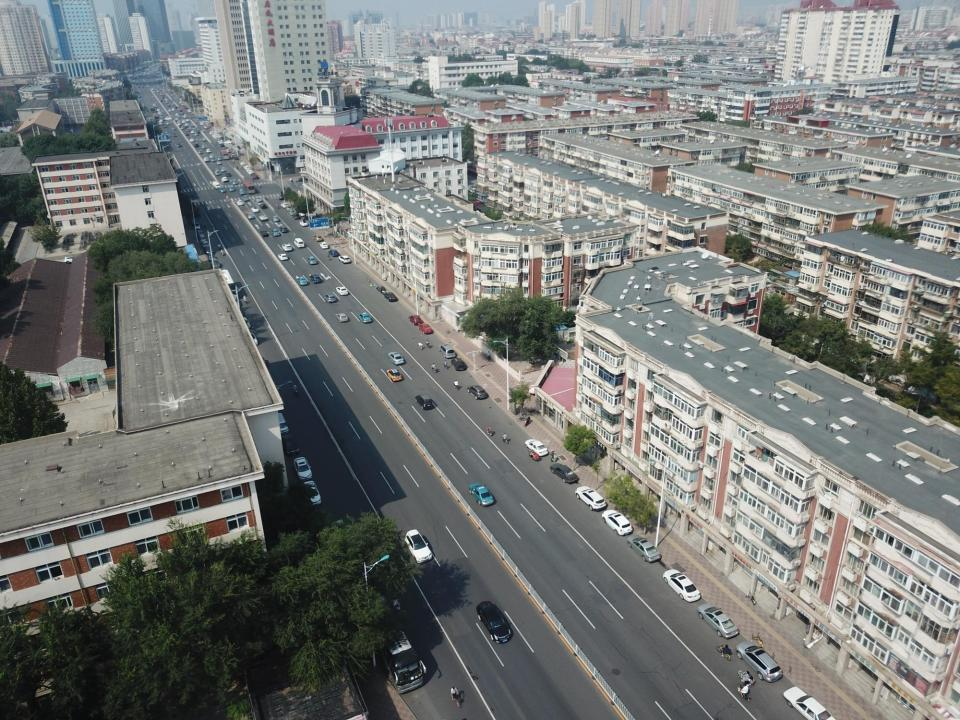bus: (367, 592, 427, 694), (241, 178, 256, 194), (220, 149, 228, 160)
car: (735, 640, 783, 682), (782, 684, 836, 720), (696, 602, 740, 640), (476, 601, 510, 644), (661, 568, 701, 603), (626, 534, 662, 564), (404, 529, 433, 563), (601, 509, 634, 536), (574, 485, 607, 511), (468, 482, 495, 507), (549, 462, 580, 483), (301, 480, 322, 507), (293, 456, 313, 481), (524, 438, 548, 457), (280, 433, 299, 456), (414, 393, 433, 410), (467, 384, 487, 400), (386, 367, 404, 383), (388, 350, 406, 365), (450, 357, 467, 372), (417, 323, 434, 335), (382, 291, 399, 302), (408, 314, 424, 325), (359, 312, 373, 324), (64, 255, 80, 265), (324, 292, 338, 303), (338, 254, 351, 265), (309, 273, 322, 284), (335, 285, 349, 295), (276, 252, 289, 262), (334, 313, 348, 322), (281, 242, 293, 252), (307, 255, 318, 265), (297, 276, 308, 286), (270, 229, 282, 238), (312, 233, 324, 242), (328, 248, 340, 257), (258, 213, 269, 222), (260, 229, 270, 238), (278, 224, 288, 233), (299, 219, 309, 228), (242, 193, 250, 202), (246, 212, 255, 220), (292, 212, 301, 220), (320, 241, 329, 249), (295, 177, 309, 182), (250, 206, 260, 213), (220, 175, 228, 183), (260, 202, 268, 210), (272, 214, 280, 222), (279, 200, 287, 208), (288, 208, 296, 216), (218, 186, 226, 193), (285, 205, 292, 212), (228, 184, 234, 192), (202, 156, 209, 162), (215, 170, 222, 176), (239, 188, 245, 195), (236, 200, 243, 206), (210, 154, 215, 162), (201, 144, 207, 150), (216, 155, 222, 161), (216, 160, 222, 166), (220, 166, 226, 172), (225, 171, 231, 177), (205, 148, 211, 153), (232, 179, 237, 185), (256, 197, 262, 202)
van: (272, 412, 289, 437), (439, 343, 456, 359), (293, 237, 305, 248)
